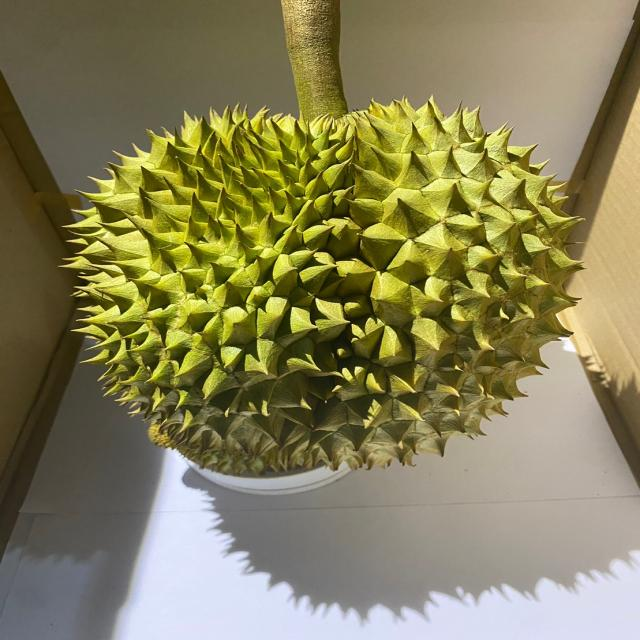immature: (63, 103, 586, 477)
